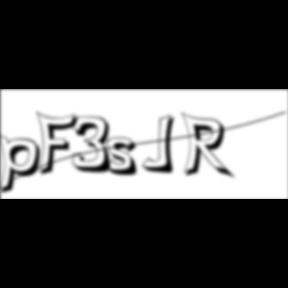3: (72, 116, 118, 176)
F: (36, 110, 84, 178)
J: (142, 114, 182, 176)
R: (181, 112, 238, 182)
p: (0, 132, 48, 198)
s: (106, 137, 144, 179)
